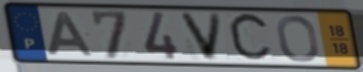4: (141, 10, 182, 63)
7: (88, 8, 130, 61)
A: (45, 10, 96, 58)
C: (226, 11, 275, 66)
O: (274, 14, 322, 64)
V: (176, 10, 225, 62)
